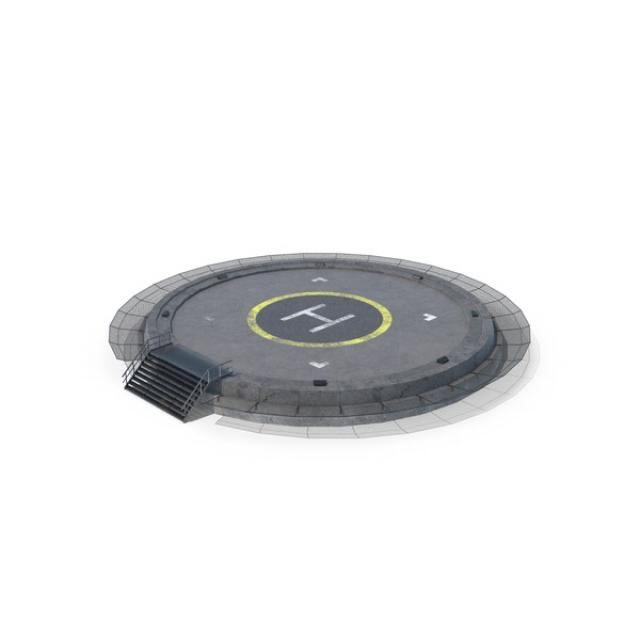helipad: (241, 287, 395, 349)
